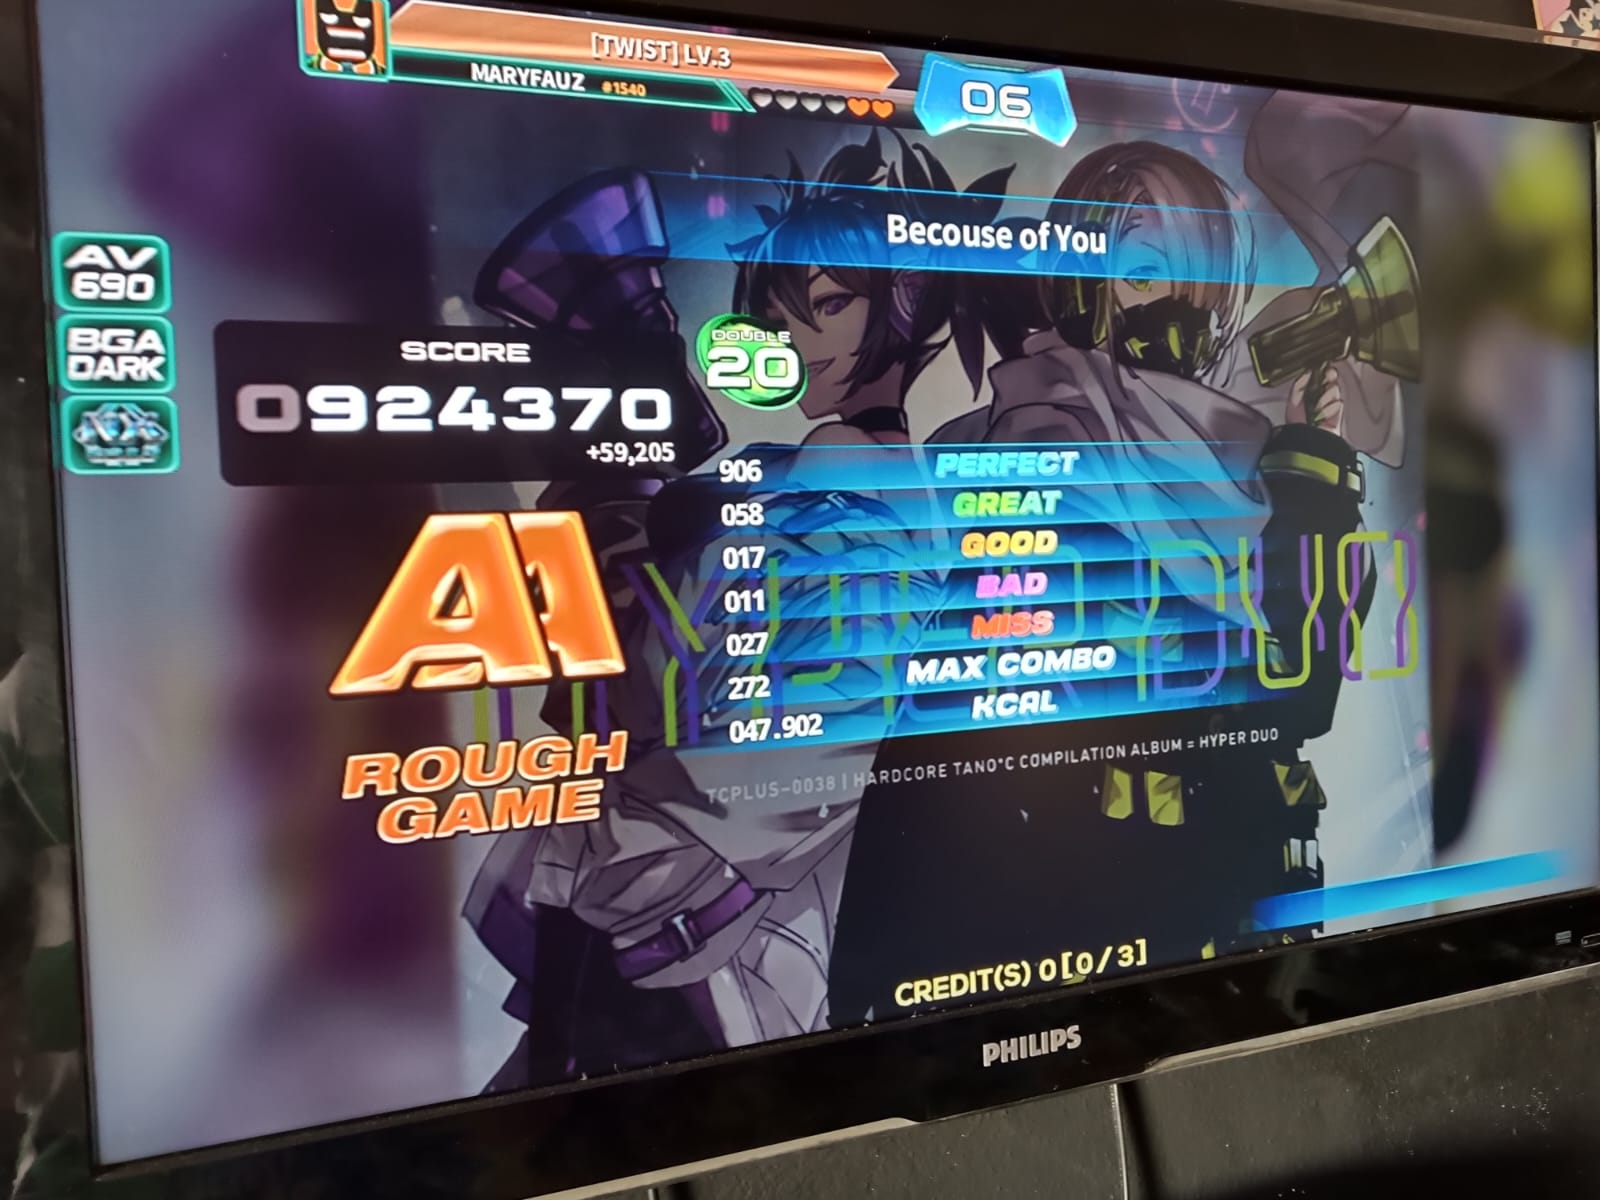difficulty: (679, 311, 840, 420)
fullscore: (0, 76, 1383, 1200)
rank: (326, 499, 622, 701)
score: (214, 330, 685, 447)
song_name: (648, 145, 1325, 304)
